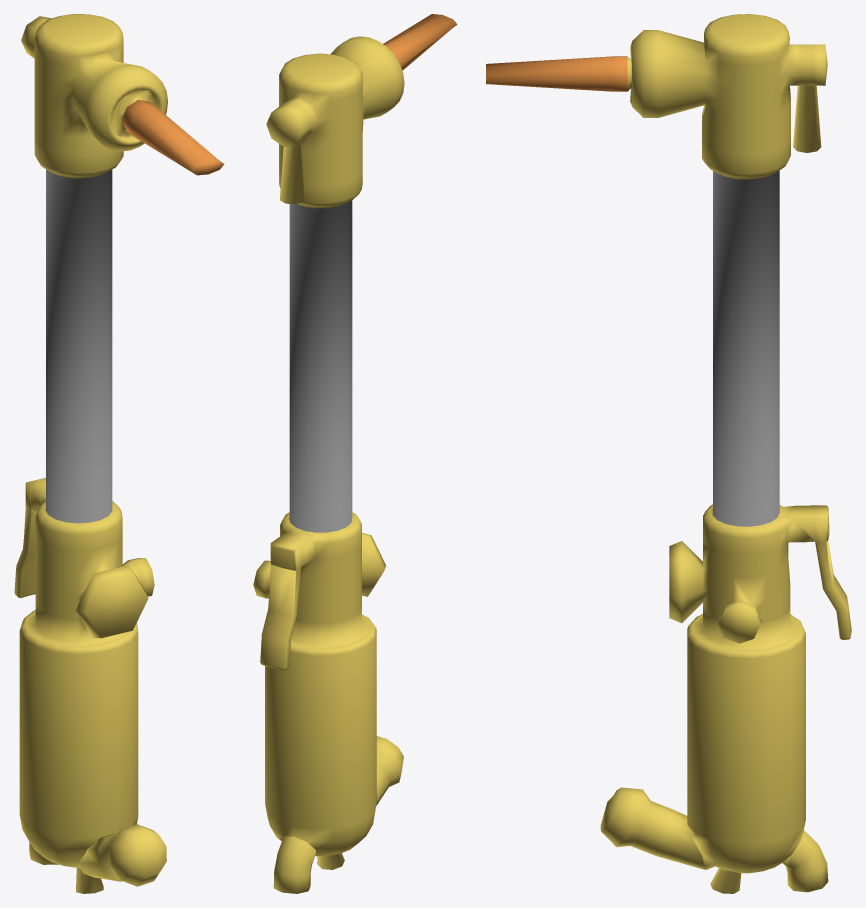
Rendered from welder.fbx.
The picture shows the model from 3 angles, left to right: view 1: azimuth 30°, elevation 25°; view 2: azimuth 150°, elevation 25°; view 3: azimuth 270°, elevation 25°; orthographic projection. The views are drawn at different scales.
Parts seen in each view (by area): view 1: welder; view 2: welder; view 3: welder.
Part boxes in pixels (x1,y1,x2,y2): welder: [14, 14, 224, 893]; welder: [253, 14, 457, 893]; welder: [486, 14, 851, 893].
Bounding box in the file's own units: 226 × 1584 × 610.
